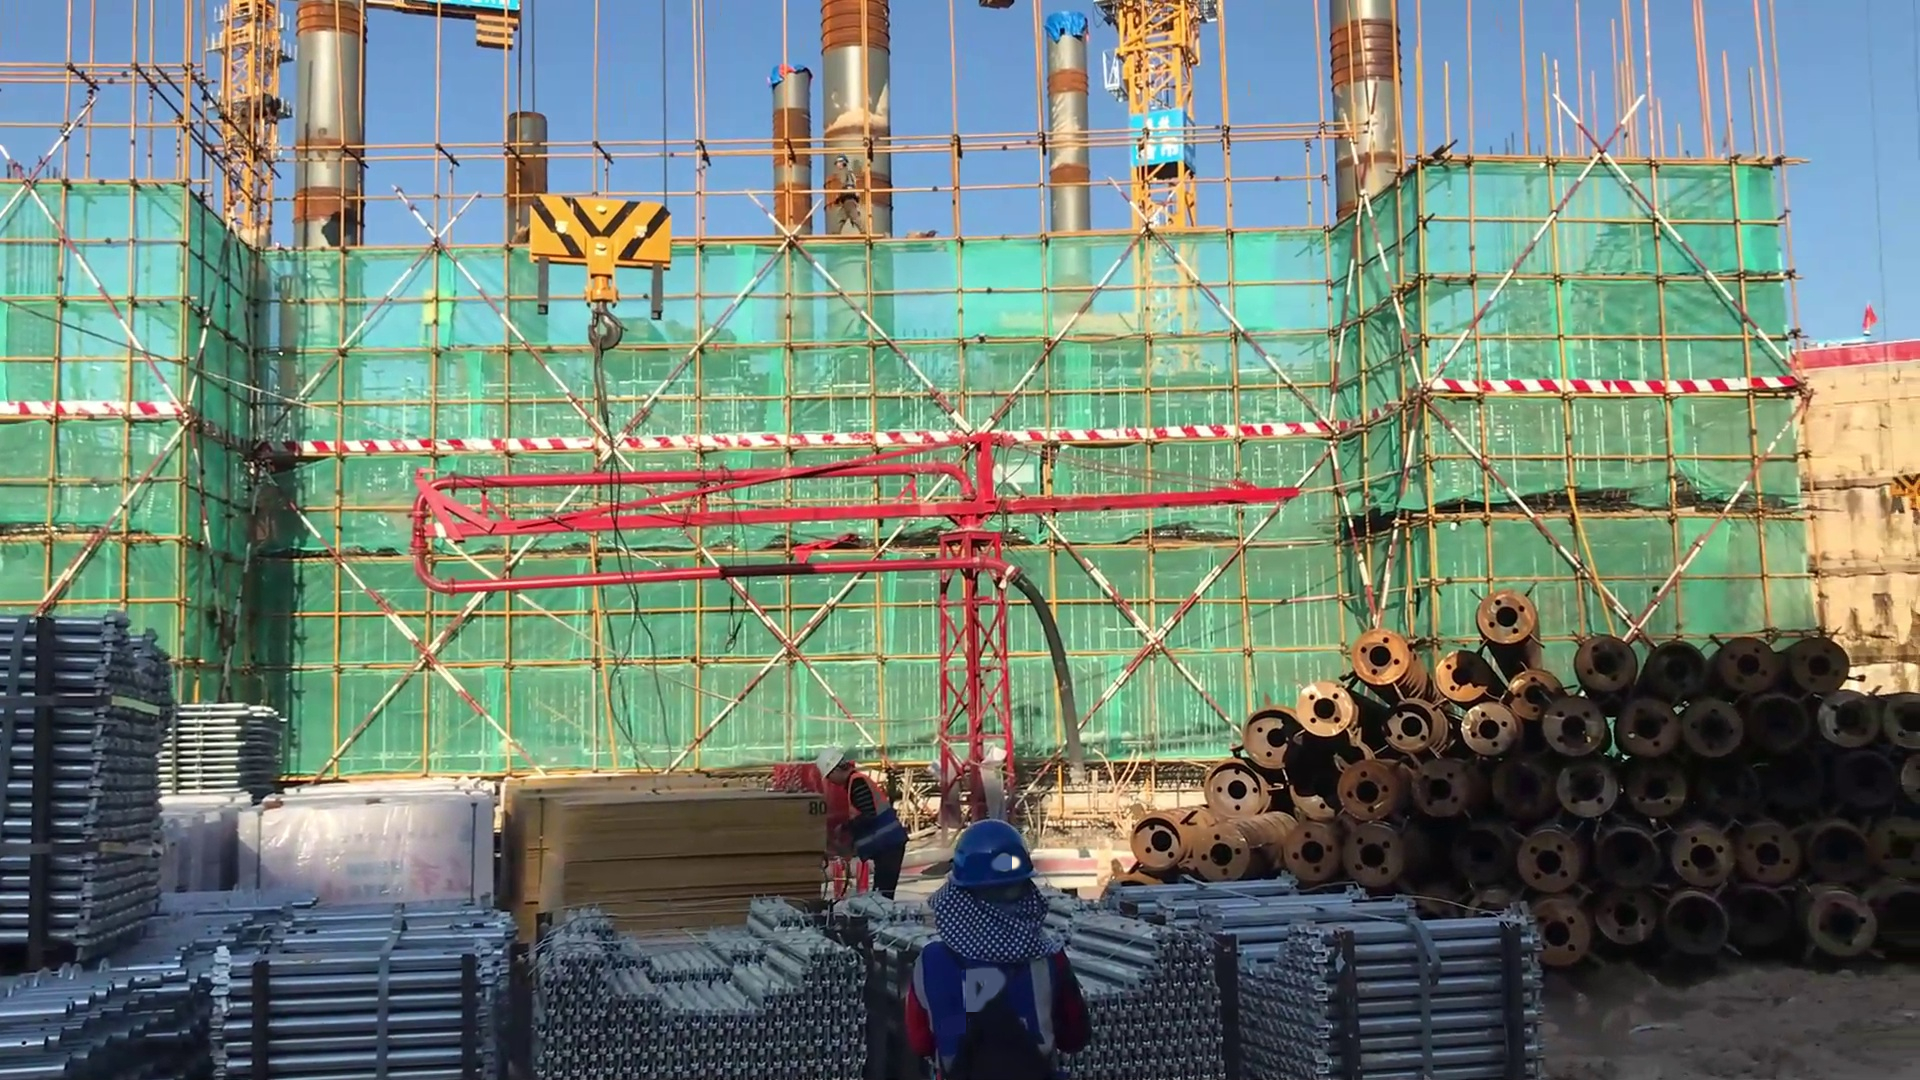board: (500, 779, 831, 940)
helmet: (937, 814, 1051, 890), (810, 742, 849, 779), (832, 150, 850, 164)
hook: (512, 169, 690, 377)
person: (903, 815, 1099, 1078), (807, 743, 915, 916), (818, 146, 881, 234)
scaffold: (236, 907, 868, 1080), (1058, 882, 1590, 1080), (1, 621, 202, 955), (1, 887, 302, 1080), (152, 684, 287, 801)
slogan: (1130, 112, 1195, 180)
vest: (907, 929, 1066, 1076), (841, 773, 909, 857)
